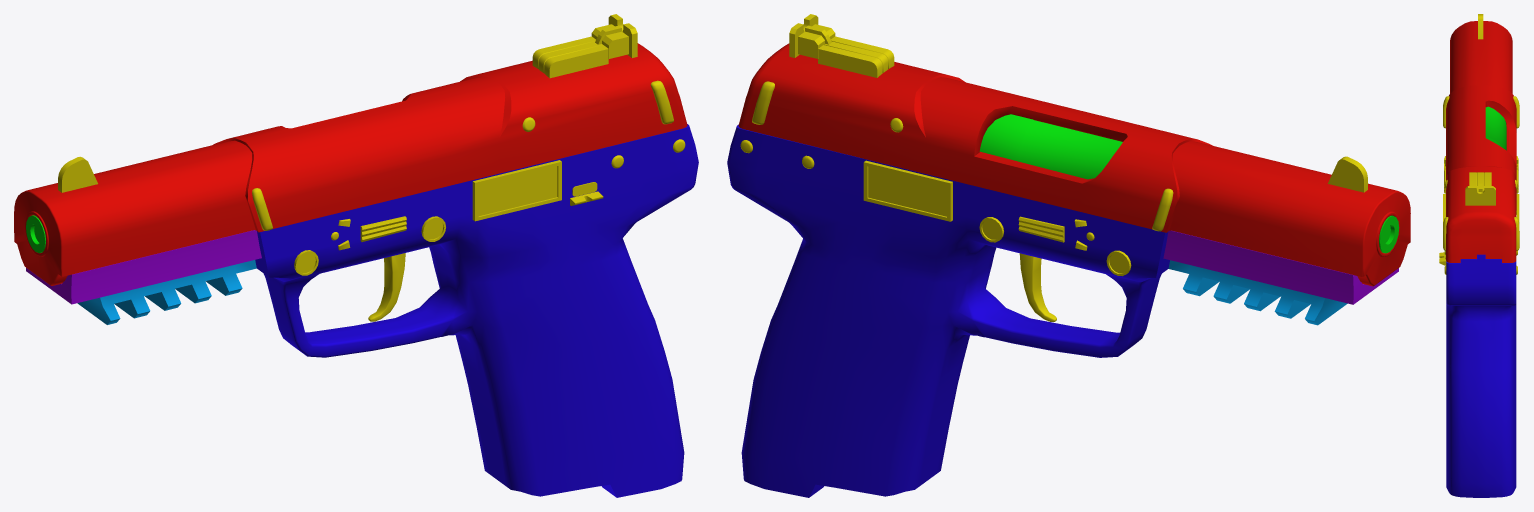
Rendered from FN_Main.fbx.
The picture shows the model from 3 angles, left to right: view 1: azimuth 30°, elevation 25°; view 2: azimuth 150°, elevation 25°; view 3: azimuth 270°, elevation 25°; orthographic projection. The views are drawn at different scales.
Visible parts, largest first — view 1: FN_main; view 2: FN_main; view 3: FN_main.
Part boxes in pixels (left/top/right/bottom): FN_main: left=14, top=14, right=698, bottom=497; FN_main: left=727, top=14, right=1410, bottom=497; FN_main: left=1439, top=14, right=1519, bottom=497.
Bounding box in the file's own units: 20.77 × 14.04 × 3.44.
